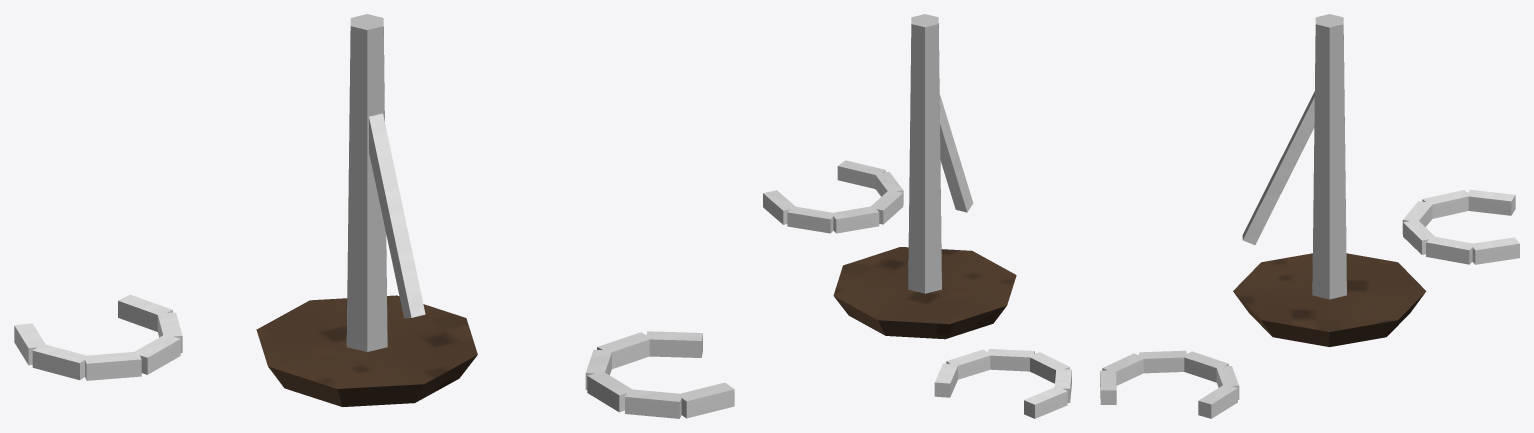
Rendered from horseshoes_pin.obj.
The picture shows the model from 3 angles, left to right: view 1: azimuth 30°, elevation 25°; view 2: azimuth 150°, elevation 25°; view 3: azimuth 270°, elevation 25°; orthographic projection. The views are drawn at different scales.
Visible parts, largest first — view 1: horseshoes_pin; view 2: horseshoes_pin; view 3: horseshoes_pin.
Boxes of the visible parts, x1,y1,x2,y2 form: horseshoes_pin: [14, 14, 734, 418]; horseshoes_pin: [763, 14, 1071, 418]; horseshoes_pin: [1100, 14, 1519, 418].
Bounding box in the file's own units: 0.6307 × 0.4 × 0.5206.
